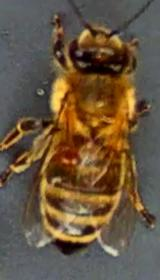varroa_mite: (52, 140, 90, 172)
